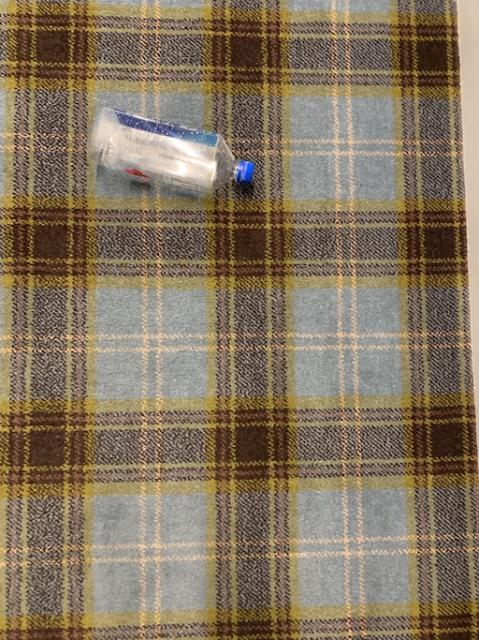plastic: (87, 107, 253, 192)
